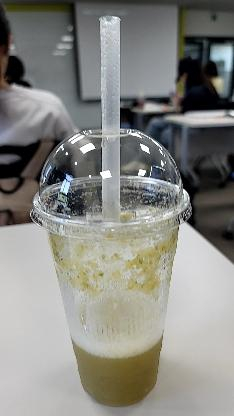Others: (31, 118, 190, 414)
Plastic Cup: (32, 118, 190, 410), (30, 124, 196, 240)
